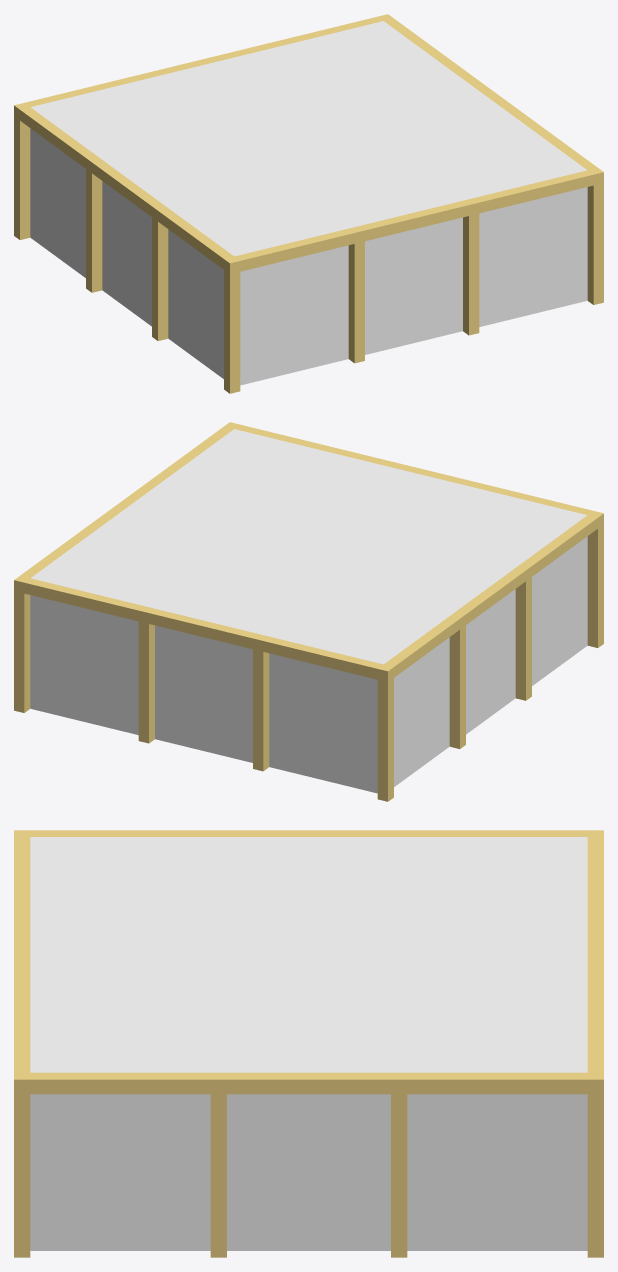
File: building_middle.glb
The picture shows the model from 3 angles, top to bottom: view 1: azimuth 30°, elevation 25°; view 2: azimuth 150°, elevation 25°; view 3: azimuth 270°, elevation 25°; orthographic projection. The views are drawn at different scales.
Parts seen in each view (by area): view 1: ObjObject.001; view 2: ObjObject.001; view 3: ObjObject.001.
Boxes of the visible parts, x1=… form: ObjObject.001: x1=14, y1=14, x2=603, y2=393; ObjObject.001: x1=14, y1=422, x2=603, y2=801; ObjObject.001: x1=14, y1=830, x2=603, y2=1257.
Bounding box in the file's own units: 3.6 × 1.2 × 3.6.
Materials: 2 (1 with a texture image).
